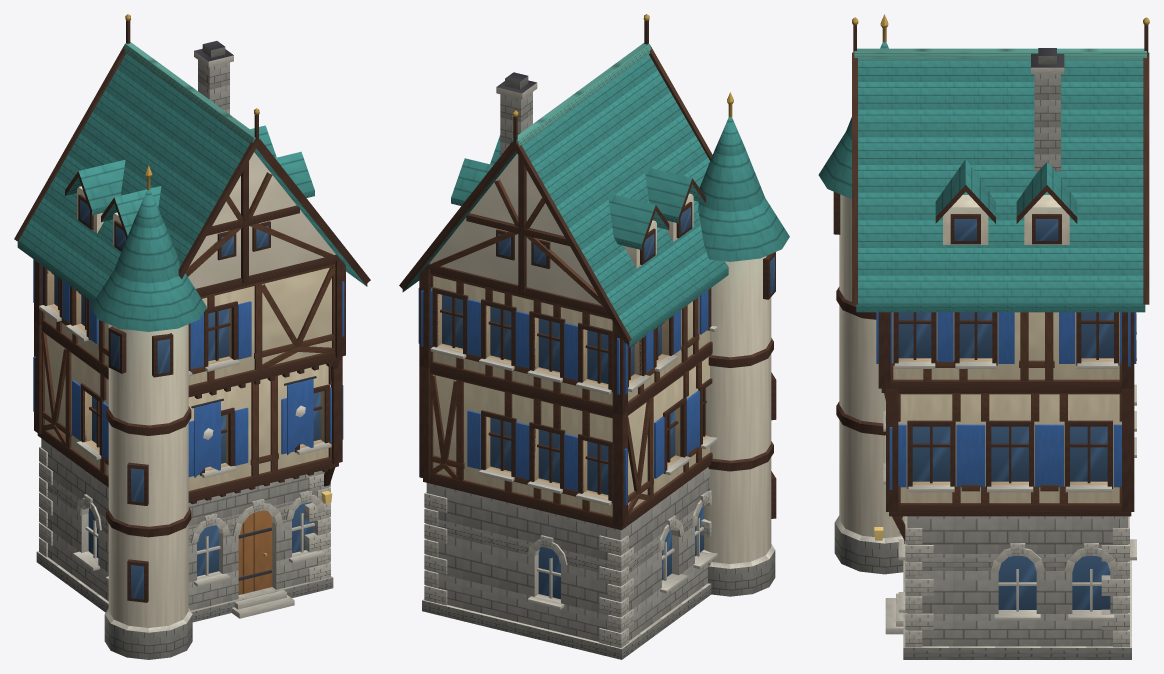
File: biz_guild_01.glb
The picture shows the model from 3 angles, left to right: view 1: azimuth 30°, elevation 25°; view 2: azimuth 150°, elevation 25°; view 3: azimuth 270°, elevation 25°; orthographic projection. The views are drawn at different scales.
Visible parts, largest first — view 1: biz_guild_01; view 2: biz_guild_01; view 3: biz_guild_01.
Part boxes in pixels (<box>): biz_guild_01: <box>14,14,370,659</box>; biz_guild_01: <box>399,14,789,659</box>; biz_guild_01: <box>818,14,1149,659</box>.
Size of the model in its own units: 8.94 by 17.19 by 8.76.
Materials: 1 (1 with a texture image).
